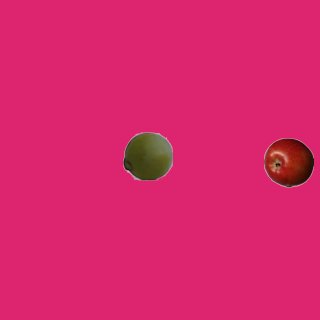Apple Braeburn: (263, 137, 313, 187)
Grape White 4: (122, 130, 172, 180)
